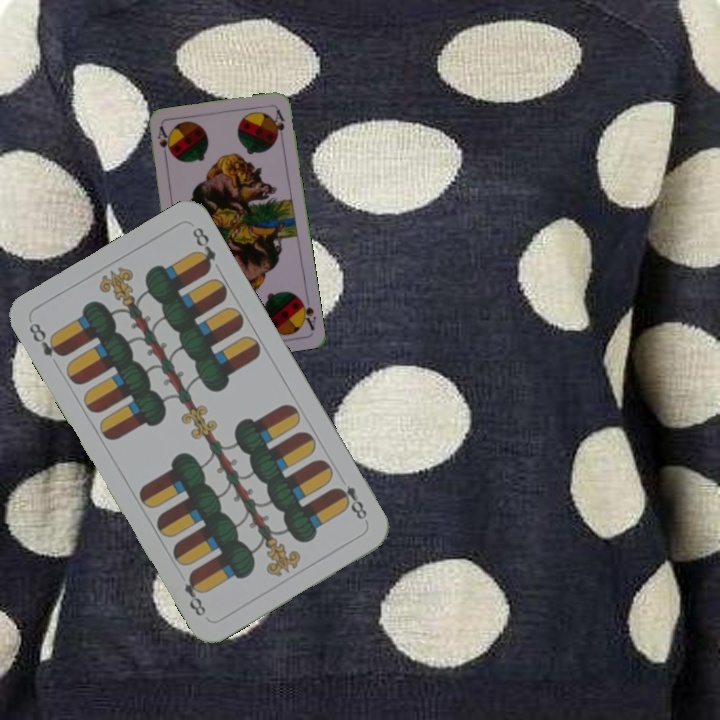E8: (25, 318, 68, 360), (331, 481, 371, 526)
SA: (295, 293, 318, 332), (153, 123, 171, 163)
